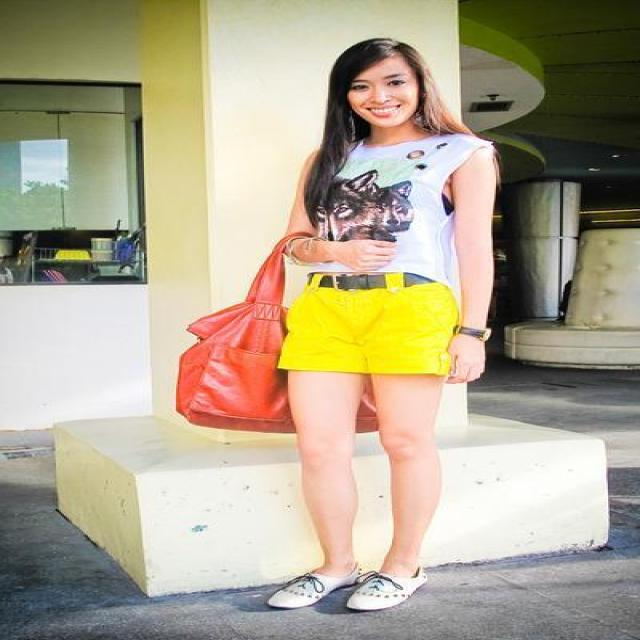bag: (176, 233, 310, 432)
shirt: (309, 134, 494, 285)
shoe: (268, 567, 426, 608)
shorts: (278, 272, 461, 374)
